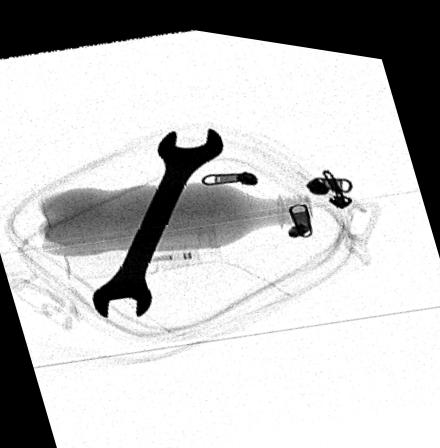Wrench: (90, 119, 224, 315)
